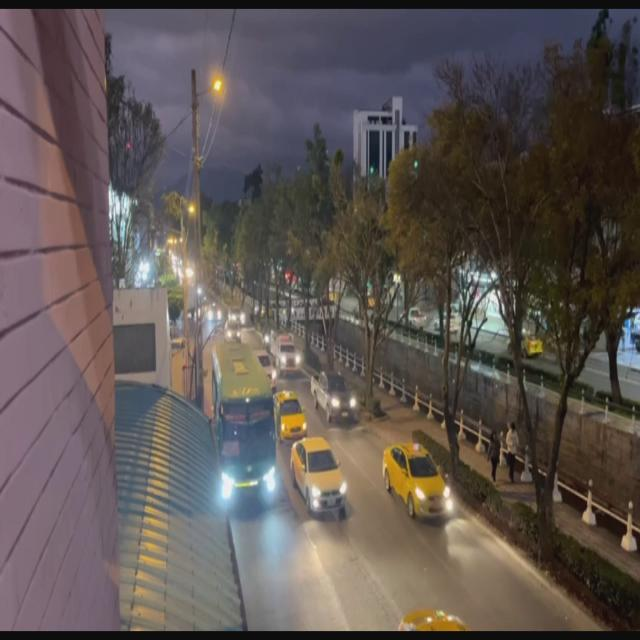BUS: (213, 347, 275, 496)
CMT: (313, 372, 357, 422), (274, 336, 300, 375)
SED: (291, 440, 343, 514), (275, 395, 305, 439)
